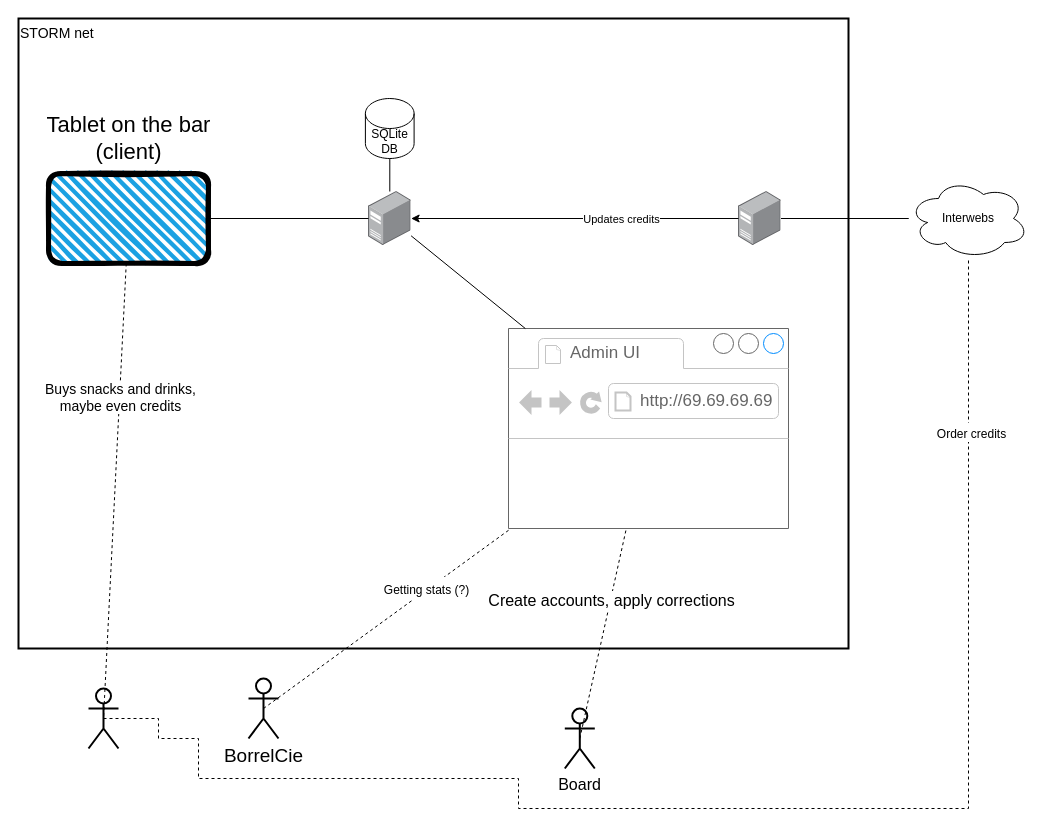
Image size: 1046x827. Some labels were removed from this diagram. Each missing label, with the centre of its shape:
"K&T Backend server (can be the same as the frontend server)" belongs at [389,218].
"Person in StoKa" belongs at [103,718].
"Webshop" belongs at [759,218].
